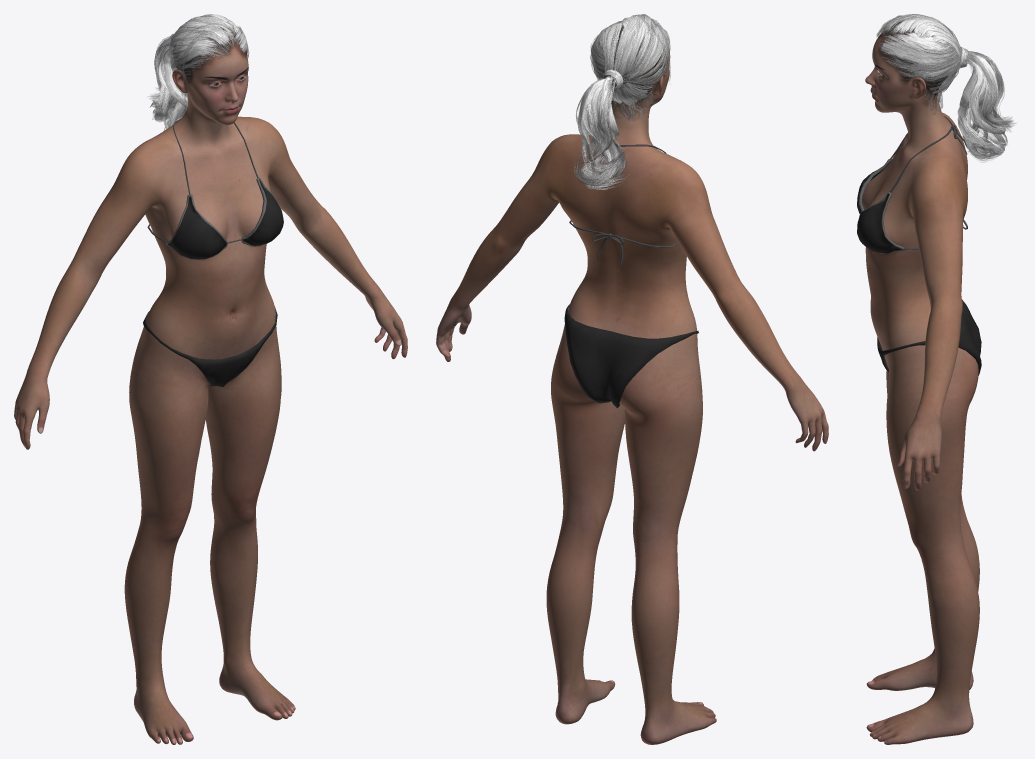
Rendered from outer-female.glb.
The picture shows the model from 3 angles, left to right: view 1: azimuth 30°, elevation 25°; view 2: azimuth 150°, elevation 25°; view 3: azimuth 270°, elevation 25°; orthographic projection.
Parts seen in each view (by area): view 1: Female Character 3D Model_10, annie_chapman_66.008_7, annie_chapman_66.009_8; view 2: Female Character 3D Model_10, annie_chapman_66.009_8, annie_chapman_66.008_7; view 3: Female Character 3D Model_10, annie_chapman_66.009_8, annie_chapman_66.008_7.
Part boxes in pixels (x1,y1,x2,y2): Female Character 3D Model_10: (14,27,407,744); annie_chapman_66.008_7: (143,119,283,386); annie_chapman_66.009_8: (149,14,249,130); Female Character 3D Model_10: (436,25,828,744); annie_chapman_66.009_8: (574,14,670,189); annie_chapman_66.008_7: (564,142,698,408); Female Character 3D Model_10: (861,21,979,744); annie_chapman_66.009_8: (877,14,1015,162); annie_chapman_66.008_7: (857,116,981,375).
Size of the model in its own units: 5.75 by 10 by 2.14.
Materials: 9 (9 with a texture image).
